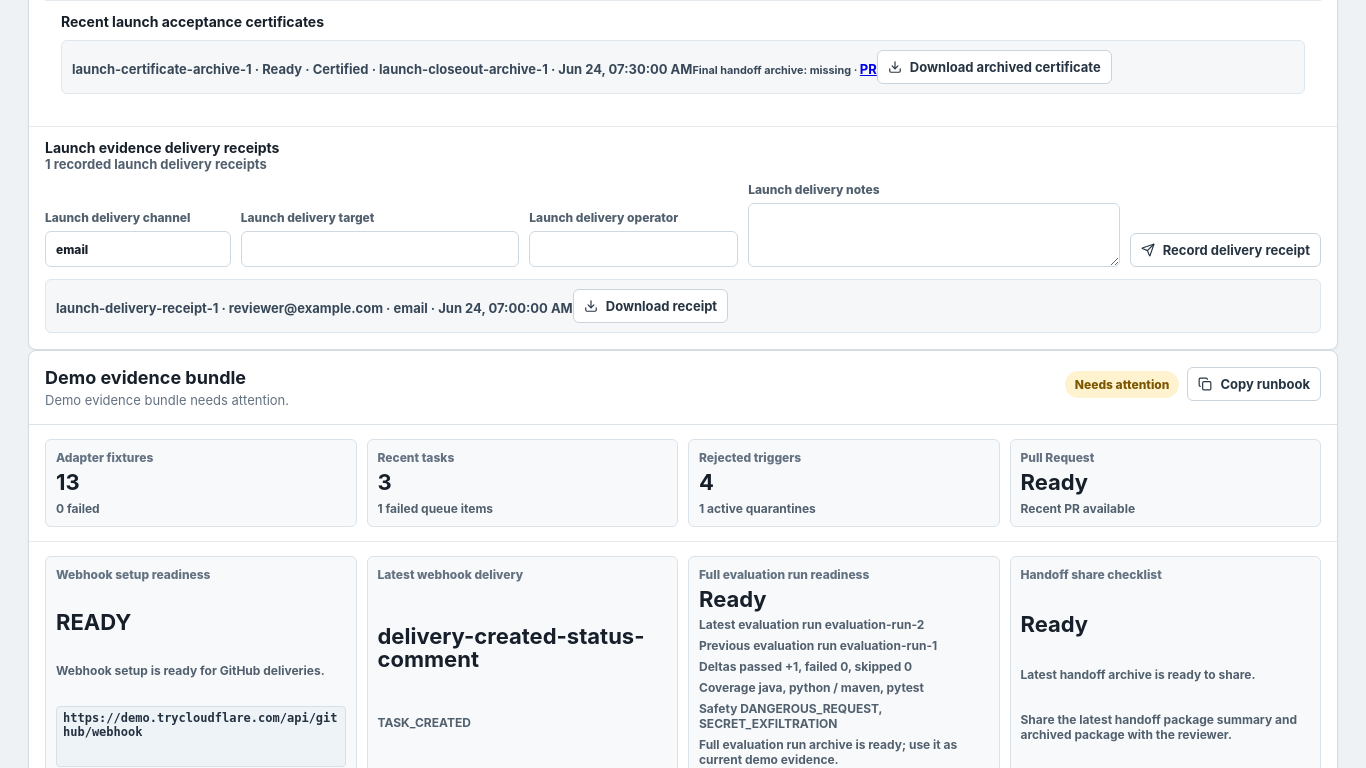
Test case: copies demo runbook from backend API
(page scrolled)
Click the button "Copy runbook" at (1254, 384), box [1187,367,1321,401]
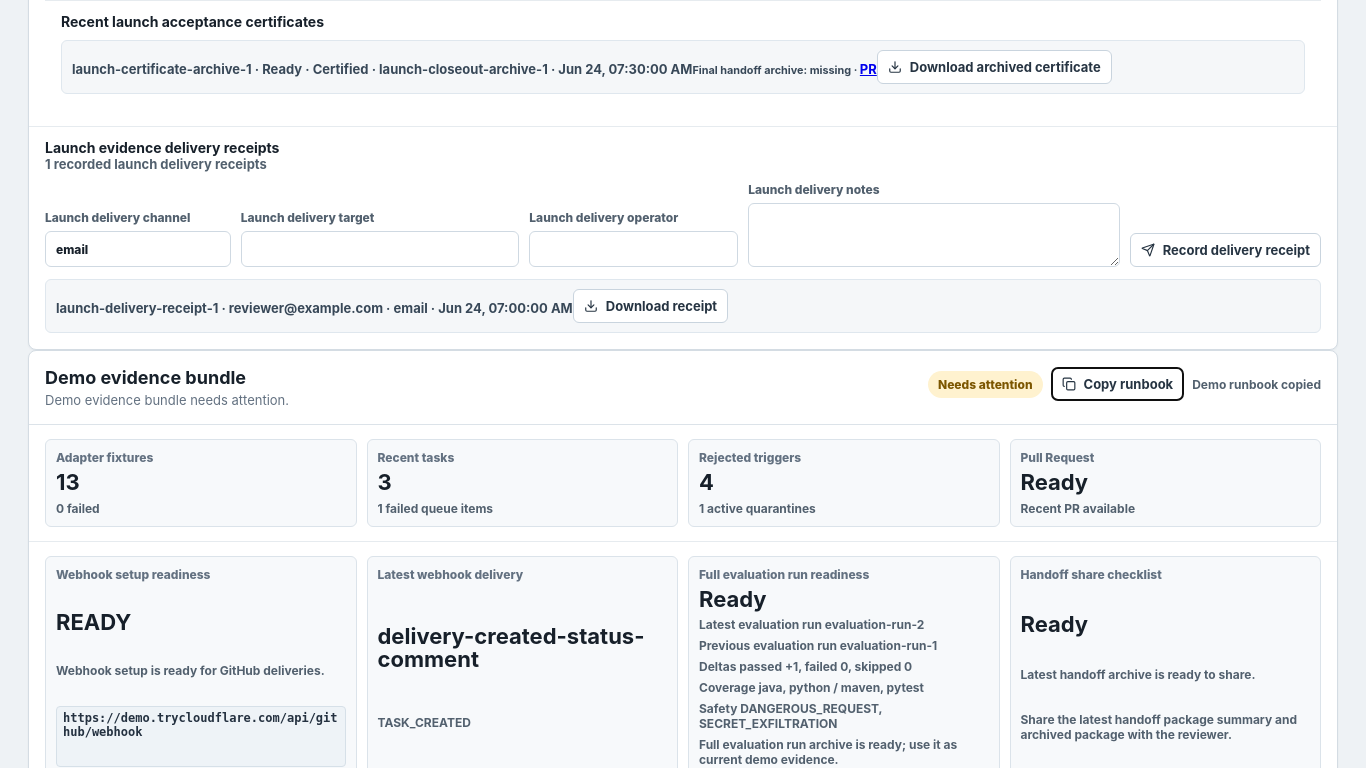
Now the text "Demo runbook copied" is shown, box [1192,377,1321,392]
